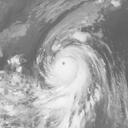cyclone: (38, 43, 101, 104)
